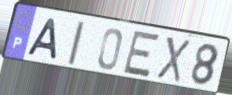0: (96, 27, 124, 72)
8: (188, 43, 219, 87)
A: (25, 17, 59, 62)
E: (121, 29, 162, 80)
I: (66, 20, 86, 67)
X: (155, 35, 192, 85)
